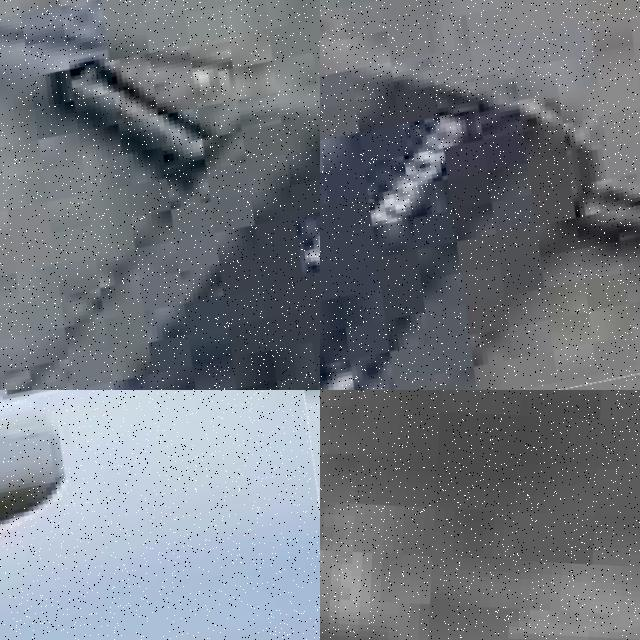drone: (0, 0, 320, 390), (320, 0, 640, 390), (0, 390, 320, 640)
